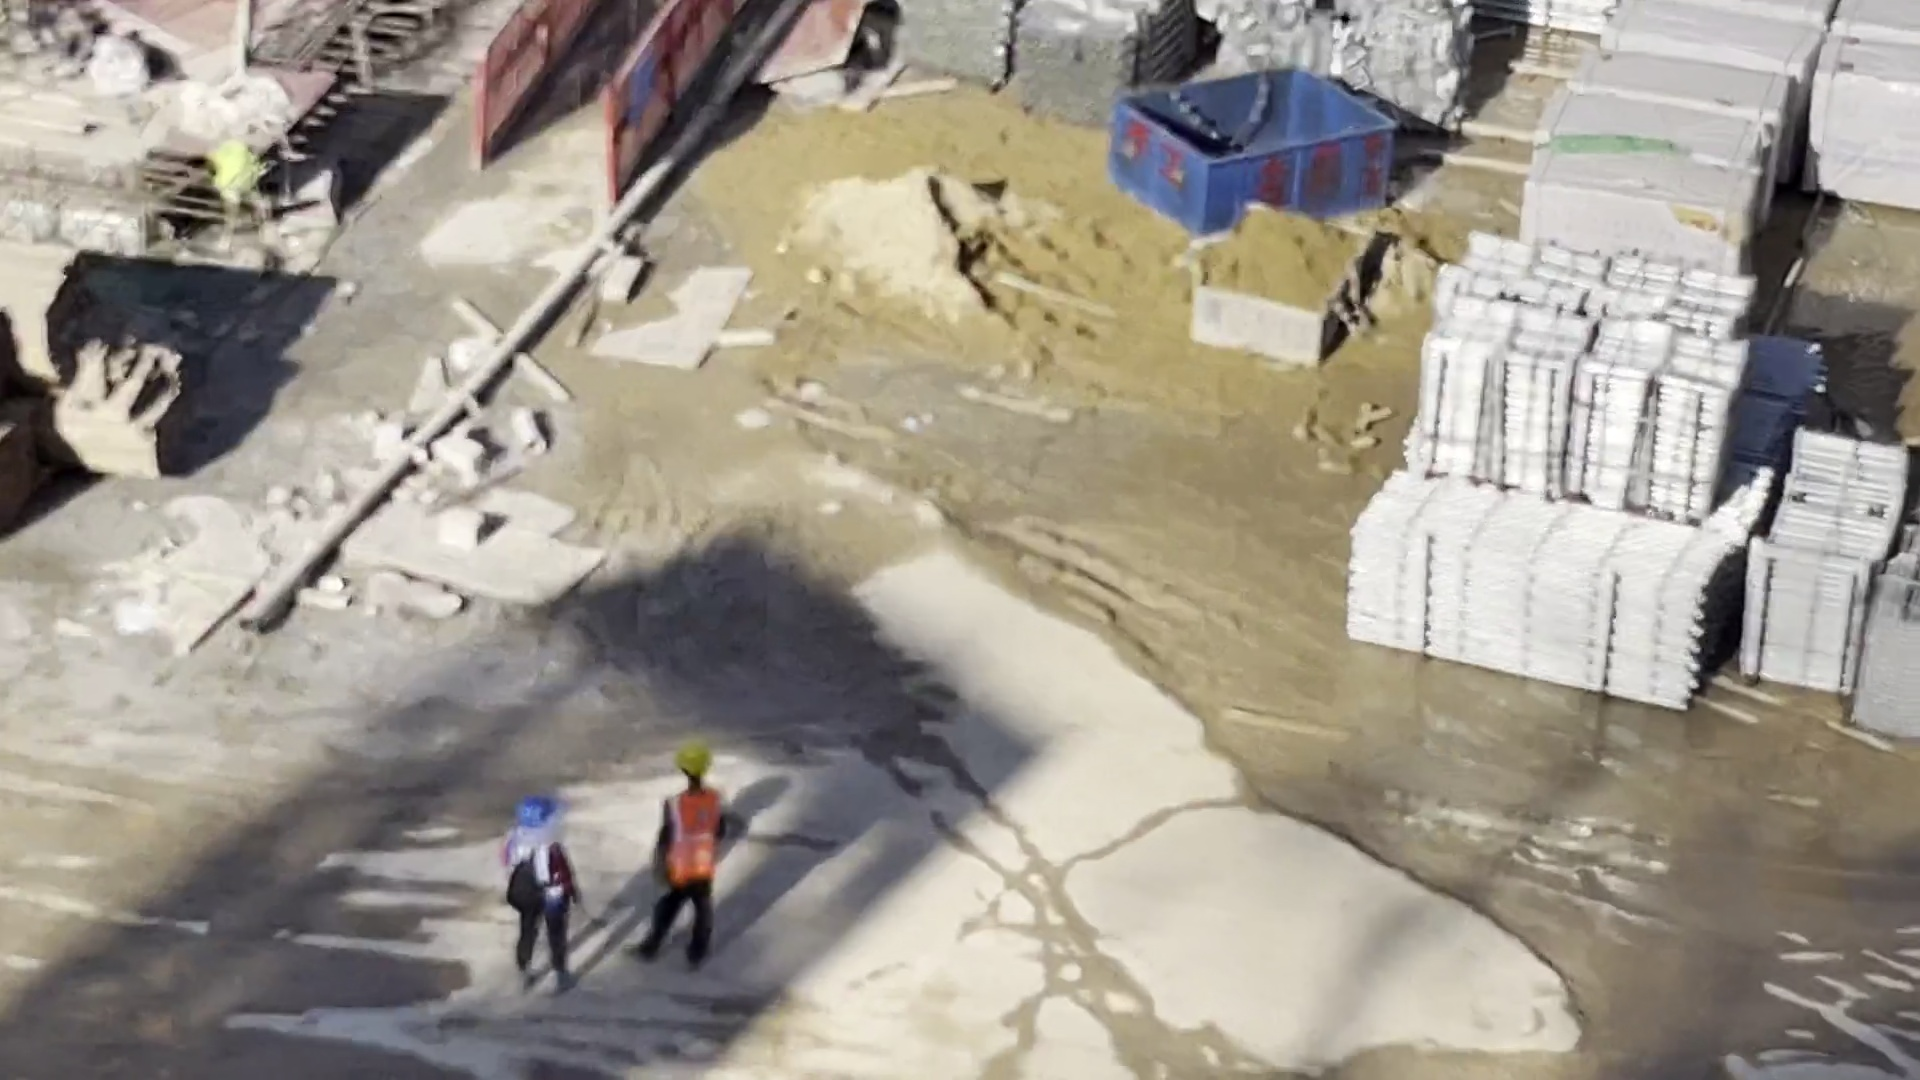fence: (483, 1, 750, 165)
helmet: (677, 743, 711, 776), (517, 799, 554, 830)
hopper: (1111, 69, 1385, 234), (1194, 208, 1367, 366)
person: (647, 742, 725, 966), (496, 799, 581, 999)
scaffold: (1346, 474, 1740, 733), (1419, 241, 1751, 512), (1731, 433, 1916, 704), (915, 1, 1201, 119)
vest: (669, 783, 713, 889)
wood: (1, 240, 177, 489)
